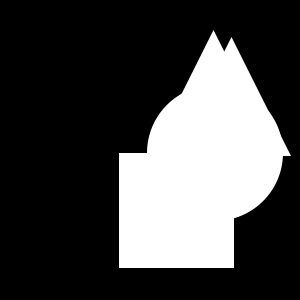circle: (119, 153, 234, 268)
rectangle: (147, 85, 283, 221)
triangle: (151, 30, 276, 155), (172, 37, 291, 156), (145, 136, 196, 187)
